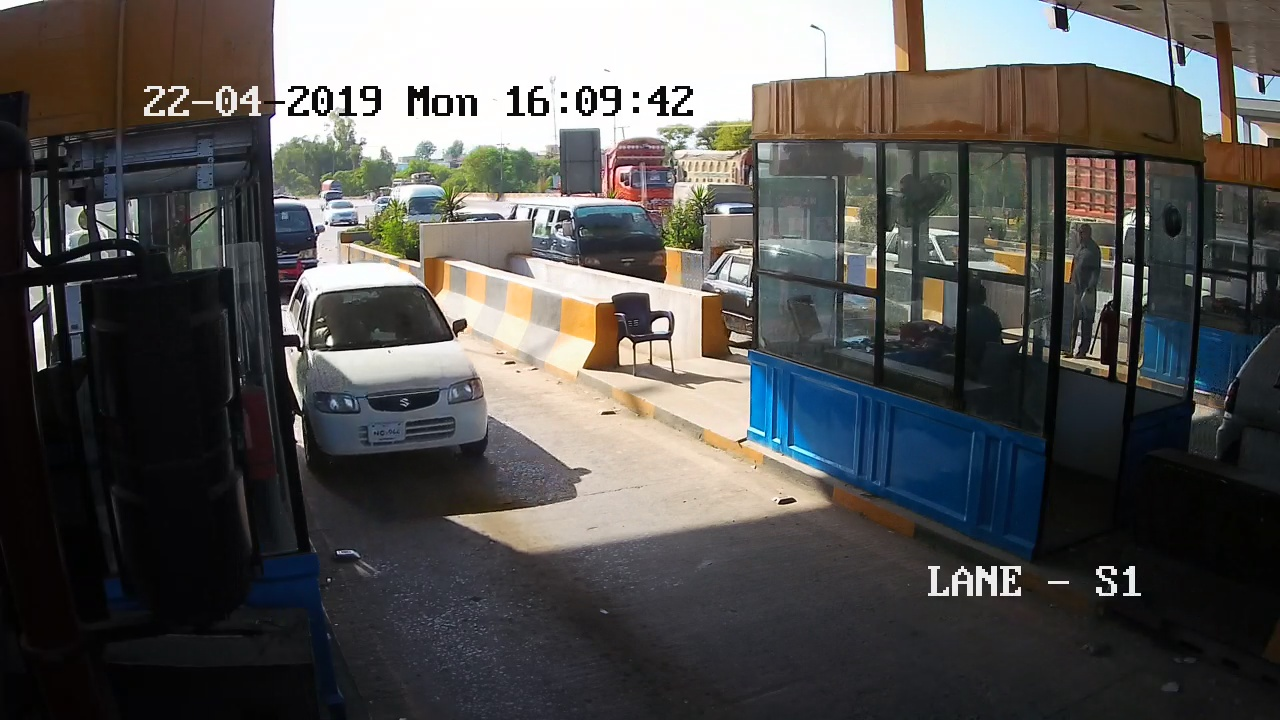Number Plate (Car): (365, 421, 408, 443)
